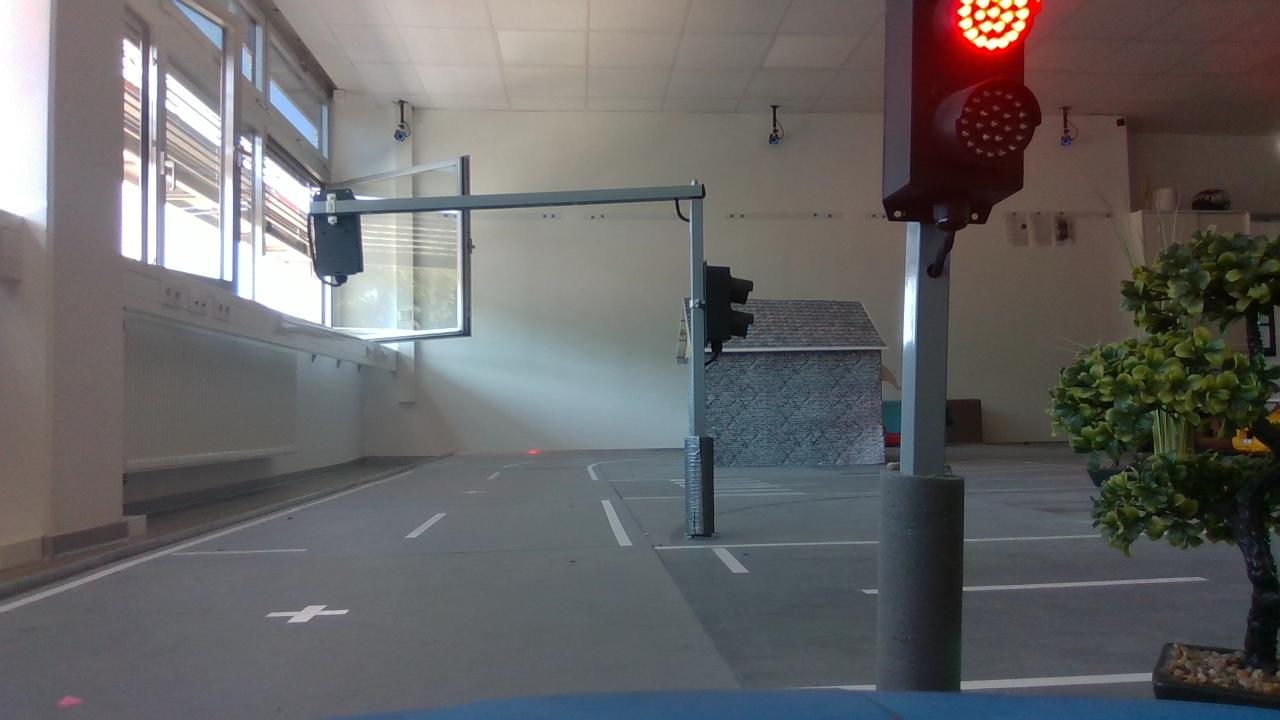traffic_light_red: (892, 1, 1049, 250)
